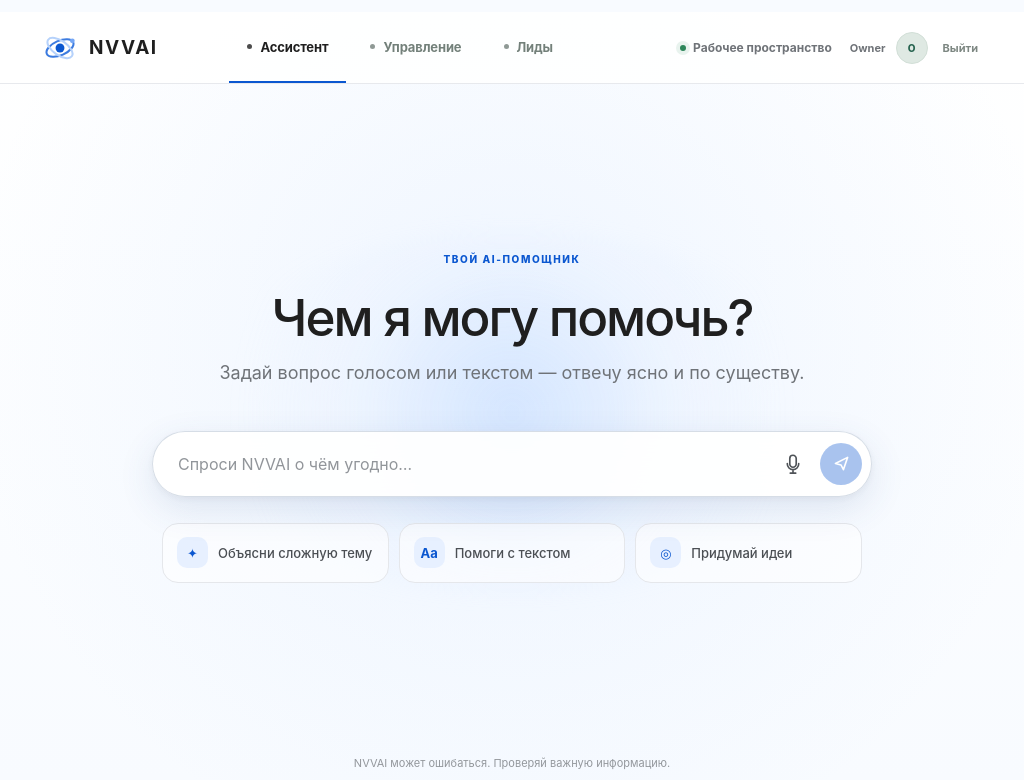
Test case: transcribes recorded audio into the message input
The width and height of the screenshot is (1024, 780).
Expected: the heading "Чем я могу помочь?" is shown, [272,286,752,348]
What coordinates should you click on to do the following:
click the button named "микрофон"
I would click on:
 (793, 464)
Its box is [772,443,814,485].
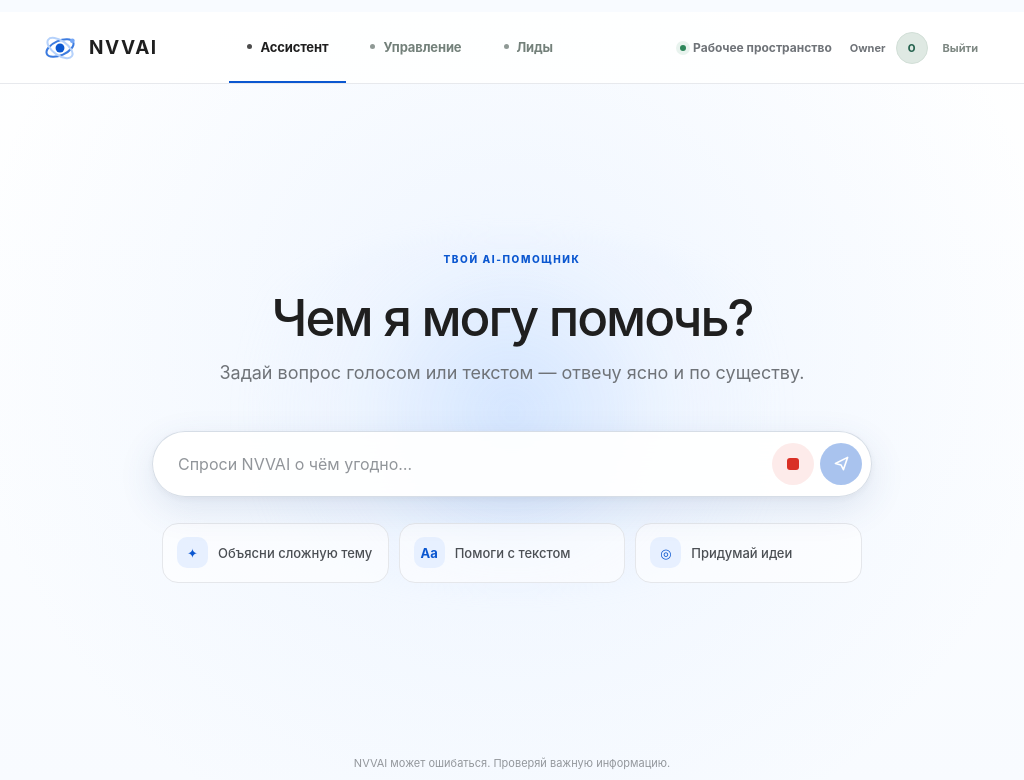
What coordinates should you click on to do the following:
click the button named "остановить запись"
I would click on:
 (793, 464)
Its box is [772,443,814,485].
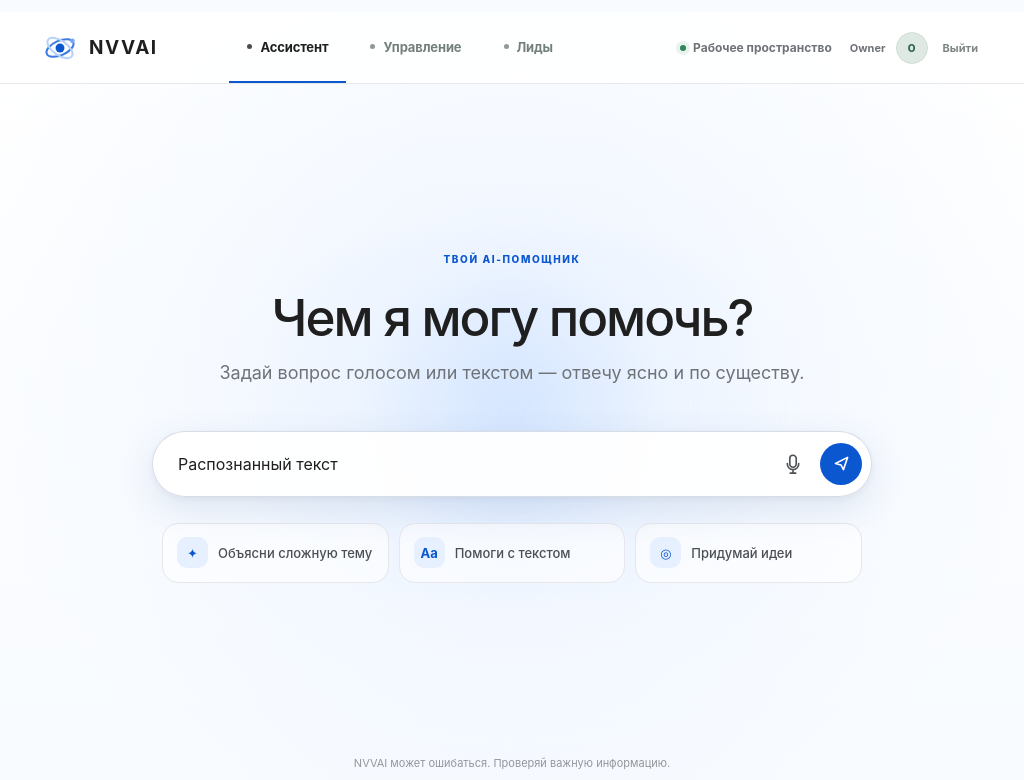
Now the text box holds "Распознанный текст", box [176,450,766,478]
